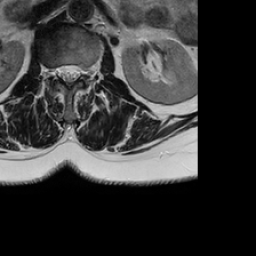CCS_normal: (65, 55, 73, 93)
LFS_normal: (82, 61, 89, 83)
LLS_normal: (73, 60, 81, 85)
RFS_normal: (48, 60, 57, 84)
RLS_normal: (57, 59, 65, 86)
